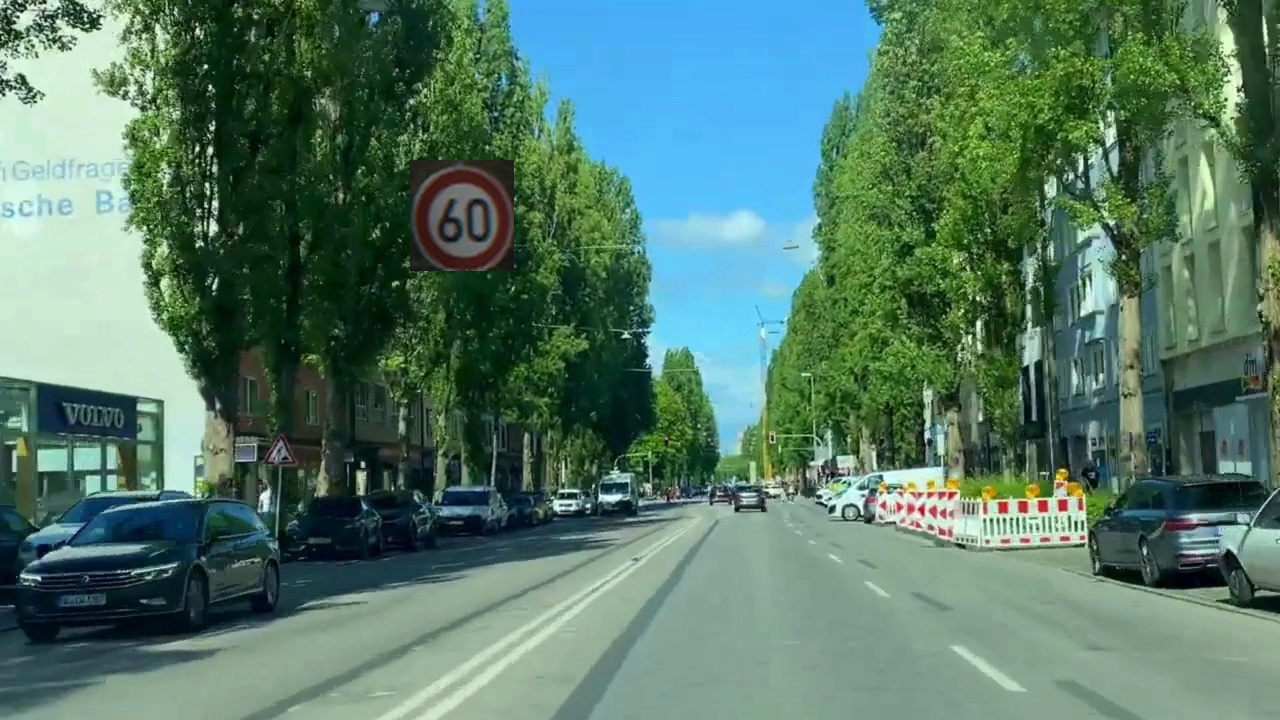Speed 60: (410, 160, 514, 271)
